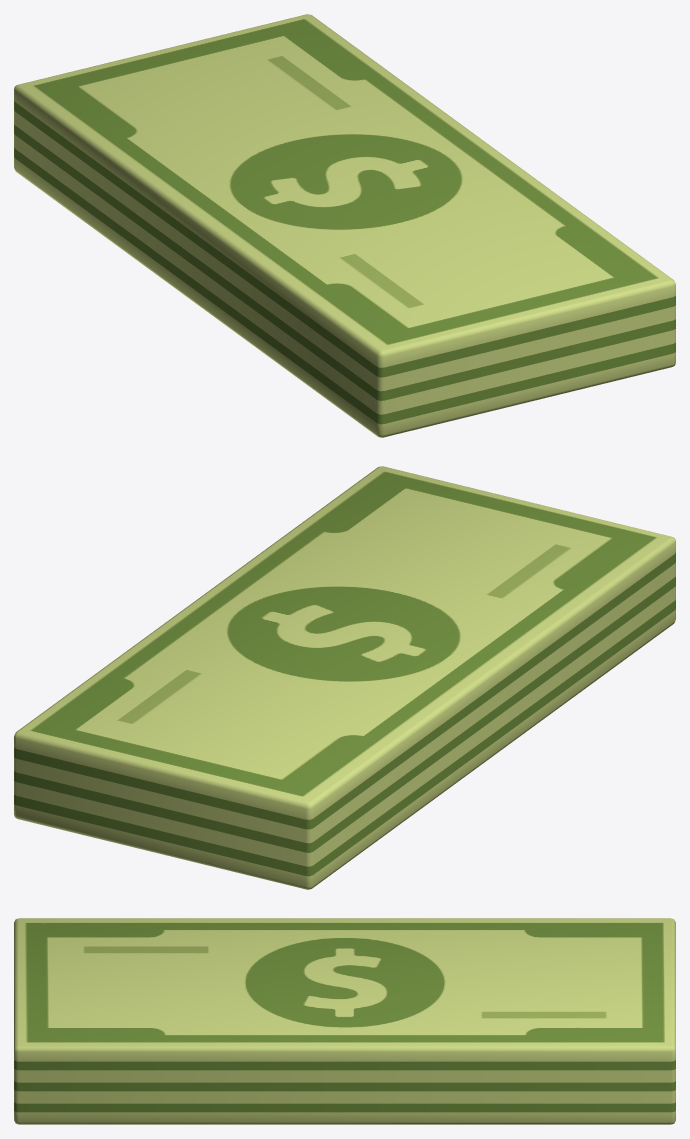
File: Money.fbx
The picture shows the model from 3 angles, top to bottom: view 1: azimuth 30°, elevation 25°; view 2: azimuth 150°, elevation 25°; view 3: azimuth 270°, elevation 25°; orthographic projection. The views are drawn at different scales.
Visible parts, largest first — view 1: Cube; view 2: Cube; view 3: Cube.
Boxes of the visible parts, left/top/right/bottom form: Cube: left=14, top=14, right=675, bottom=437; Cube: left=14, top=466, right=675, bottom=889; Cube: left=14, top=918, right=675, bottom=1124.
Bounding box in the file's own units: 0.1903 × 0.0532 × 0.4061.
Materials: 1 (1 with a texture image).
